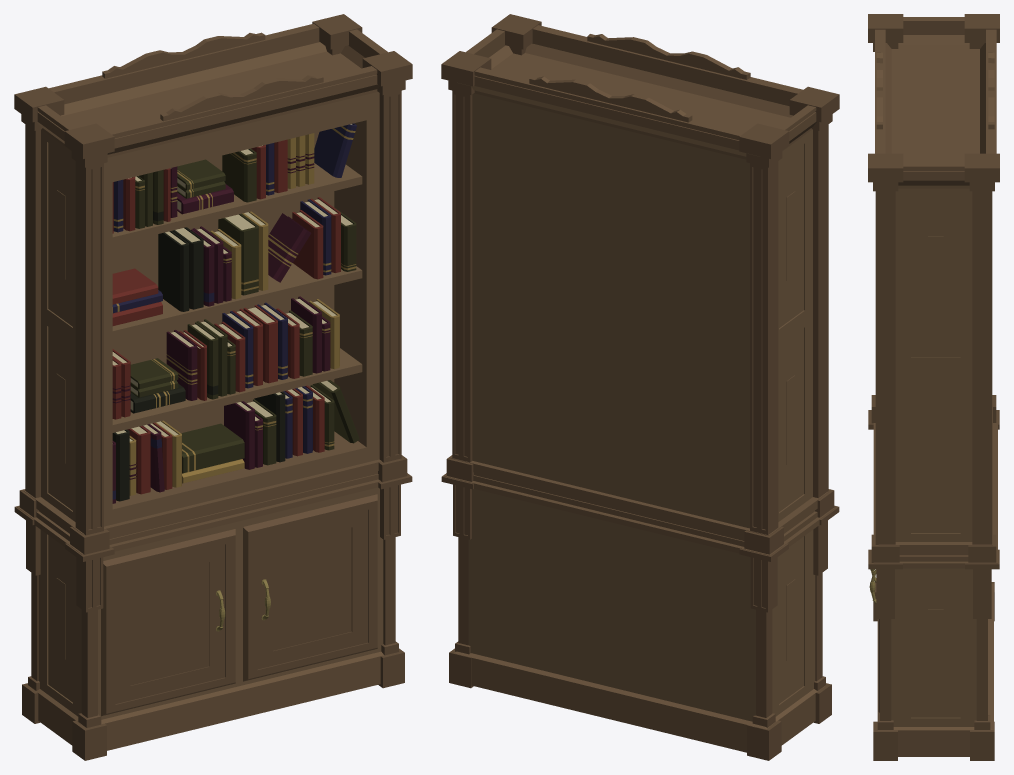
Rendered from bookshelf.glb.
The picture shows the model from 3 angles, left to right: view 1: azimuth 30°, elevation 25°; view 2: azimuth 150°, elevation 25°; view 3: azimuth 270°, elevation 25°; orthographic projection. The views are drawn at different scales.
Visible parts, largest first — view 1: BookCase_Single; view 2: BookCase_Single; view 3: BookCase_Single.
Boxes of the visible parts, bbox=[...] form: BookCase_Single: bbox=[14, 14, 412, 760]; BookCase_Single: bbox=[441, 14, 839, 760]; BookCase_Single: bbox=[868, 14, 999, 760].
Size of the model in its own units: 1.84 by 3.37 by 0.6642.
1 material, 1 textured.
